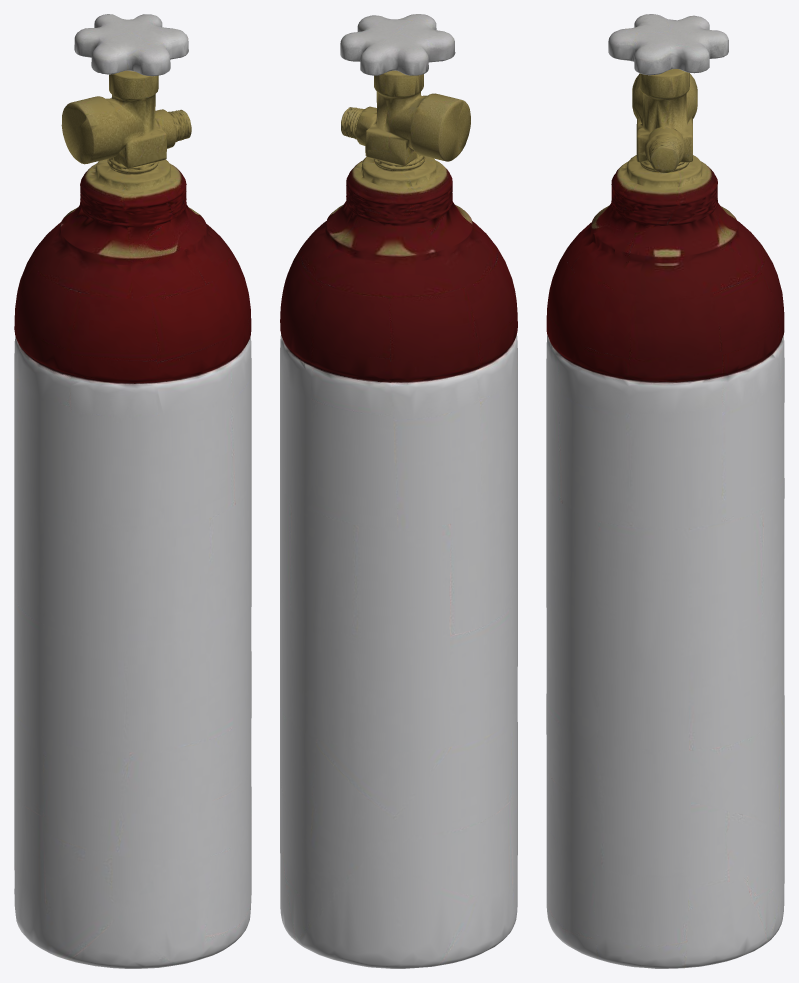
3 views of the same model, side by side, from view 1: azimuth 30°, elevation 25°; view 2: azimuth 150°, elevation 25°; view 3: azimuth 270°, elevation 25° (orthographic).
Bounding box in the file's own units: 0.4587 × 1.9 × 0.4599.
Materials: 1 (1 with a texture image).
